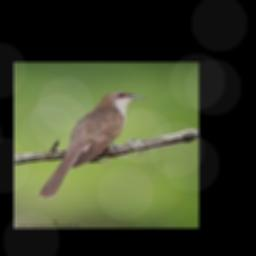Cuckoo: (39, 92, 147, 198)
